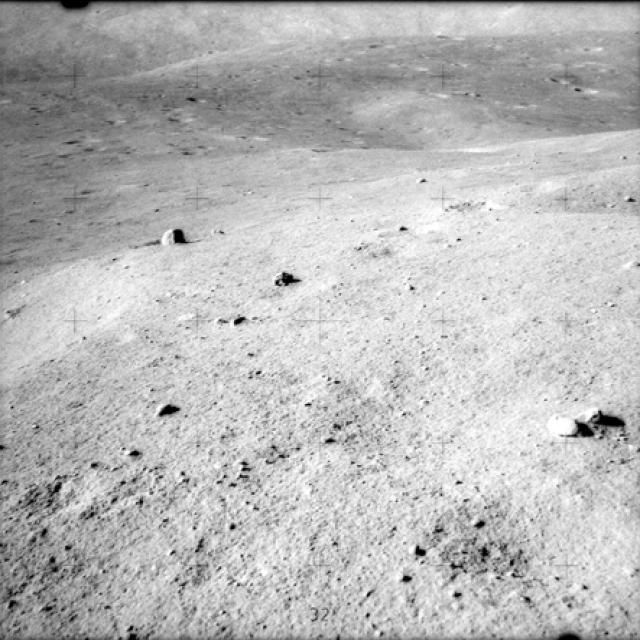rock: (539, 396, 617, 441), (151, 222, 190, 252), (266, 263, 302, 291), (152, 395, 184, 419)
